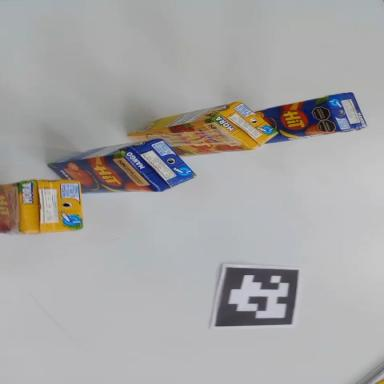HIT-MANGO: (48, 138, 195, 194), (256, 90, 366, 144)
HIT-MORA: (126, 98, 277, 160), (0, 179, 82, 234)
cara_F: (126, 115, 251, 161), (48, 152, 160, 195), (253, 95, 340, 143), (0, 183, 20, 233)
